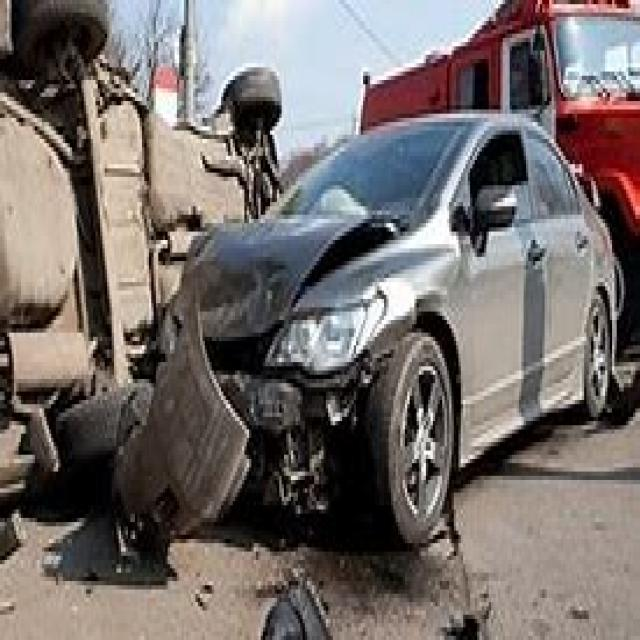Accident: (112, 70, 575, 603)
